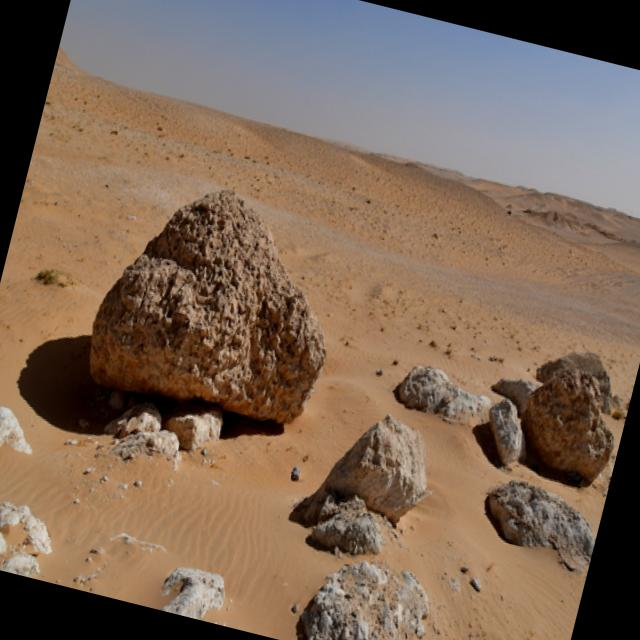red-sand: (0, 47, 640, 468), (0, 446, 332, 640), (375, 418, 585, 640)
stone: (89, 189, 325, 422), (293, 415, 426, 523), (520, 367, 613, 485), (298, 561, 427, 640), (484, 480, 595, 569), (393, 365, 491, 420), (307, 495, 381, 554), (159, 567, 224, 620), (489, 397, 523, 463)
